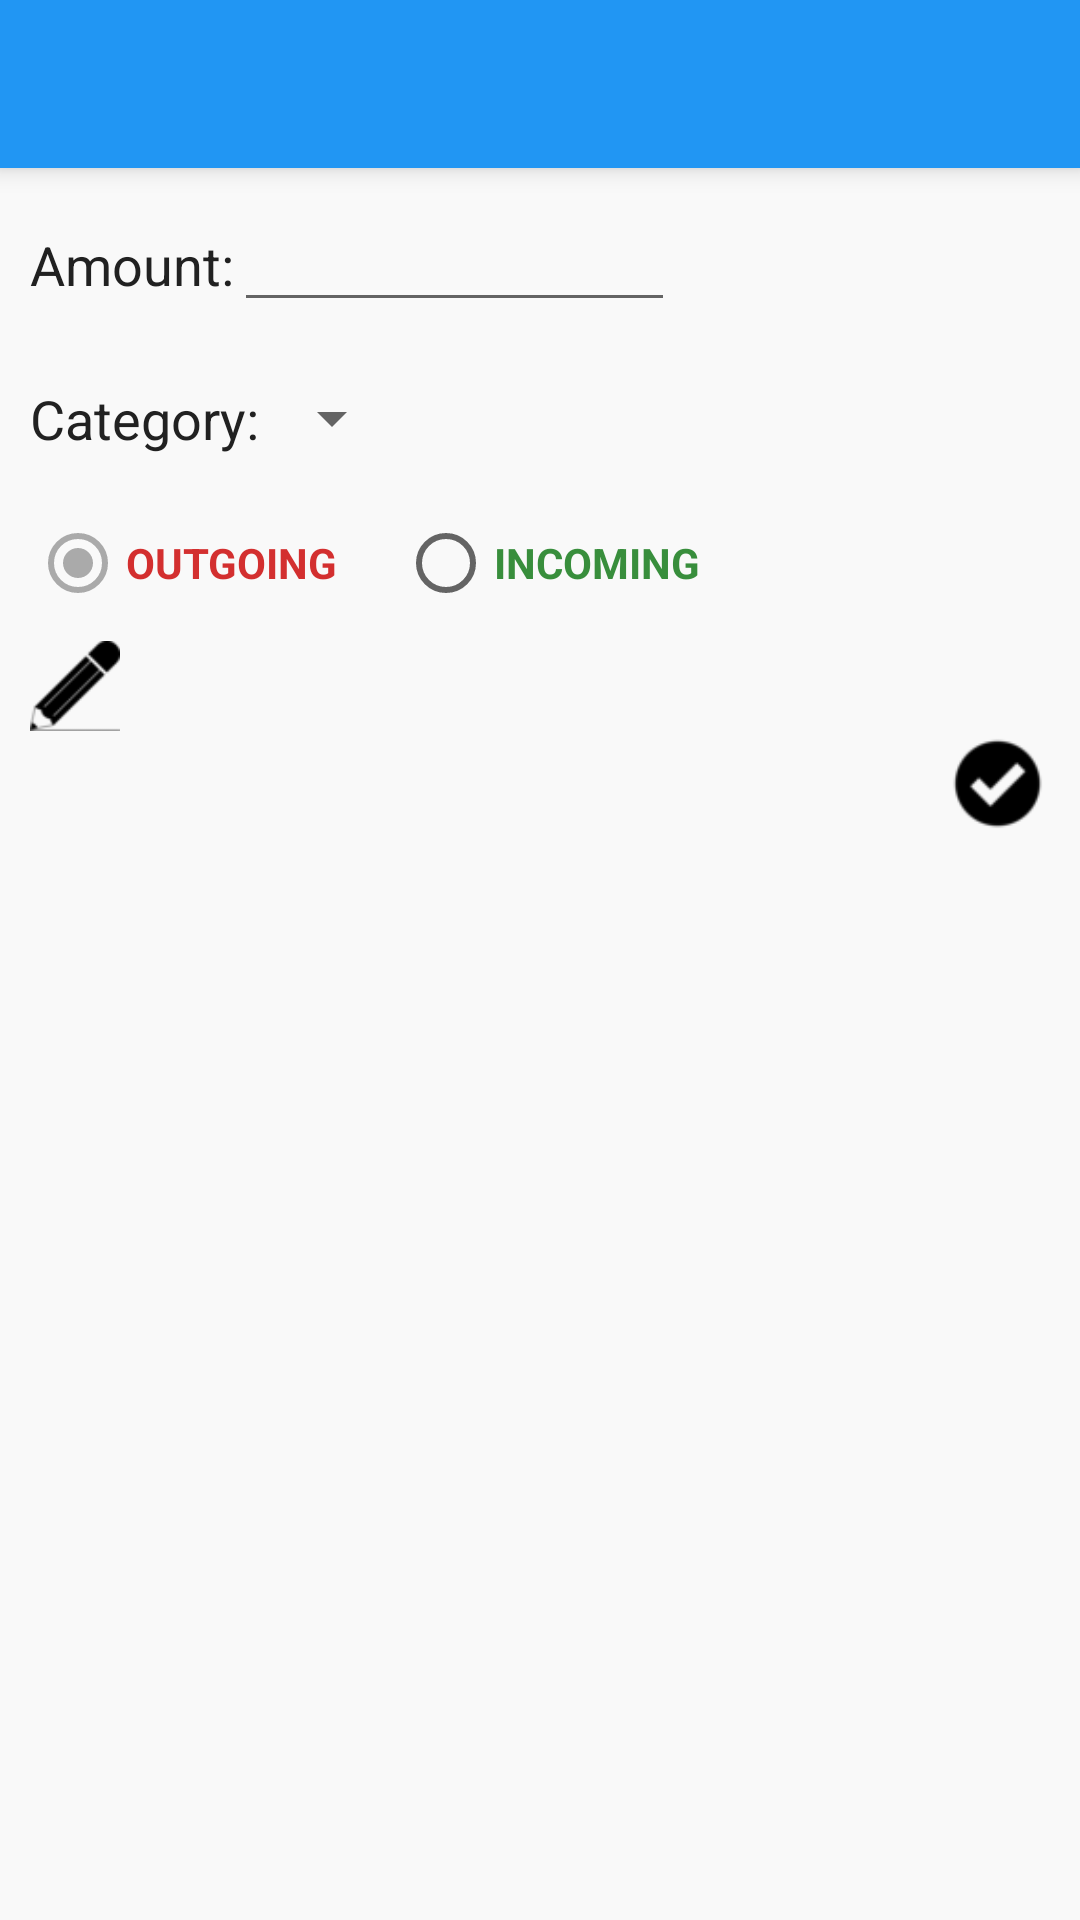

Icons on this 1080 x 1920 Android screen, each with the point to tap as [x,y]:
description: [75,686]
tick: [998,784]
